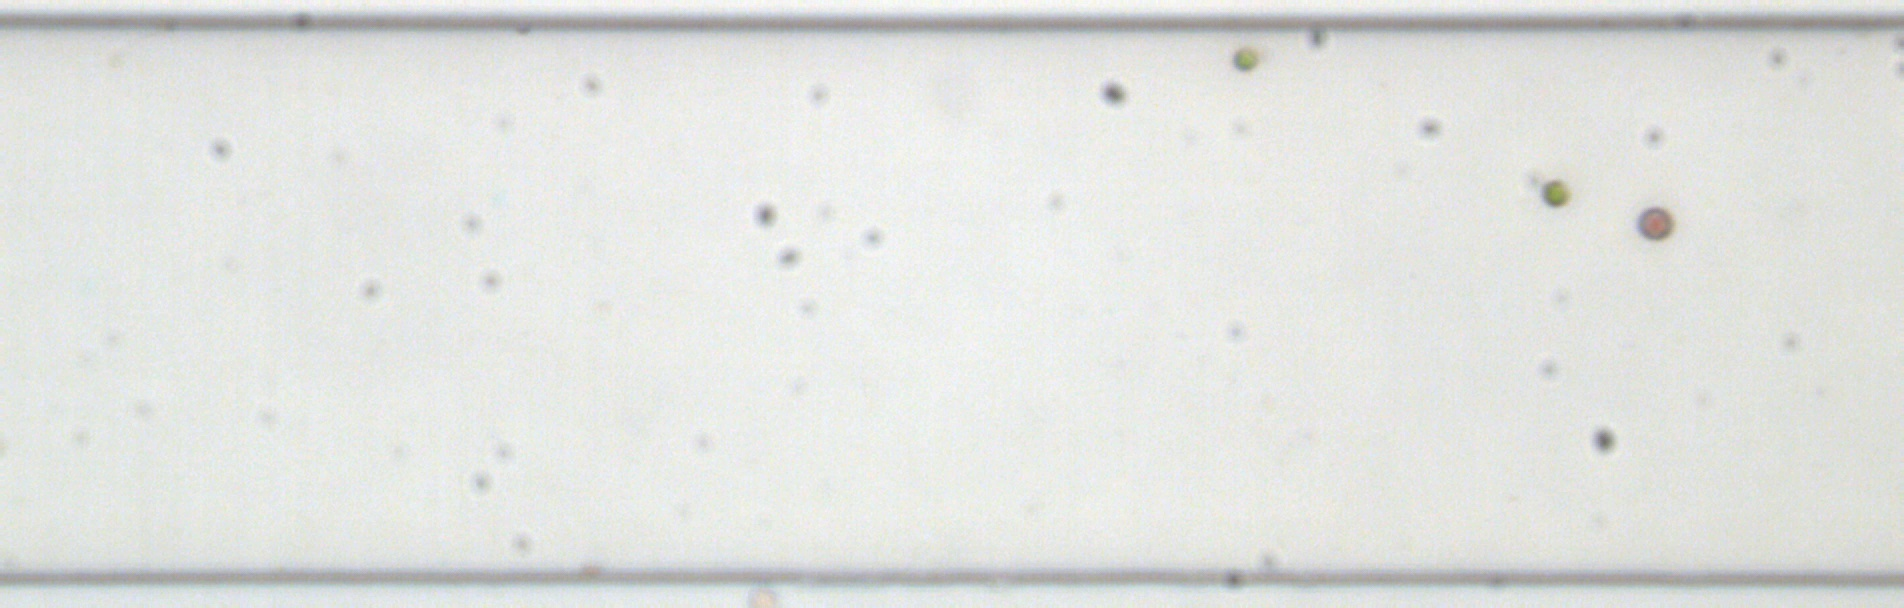Chlorella: (1540, 178, 1566, 208), (1232, 45, 1257, 72)
Porphyridium: (1634, 204, 1674, 243)
